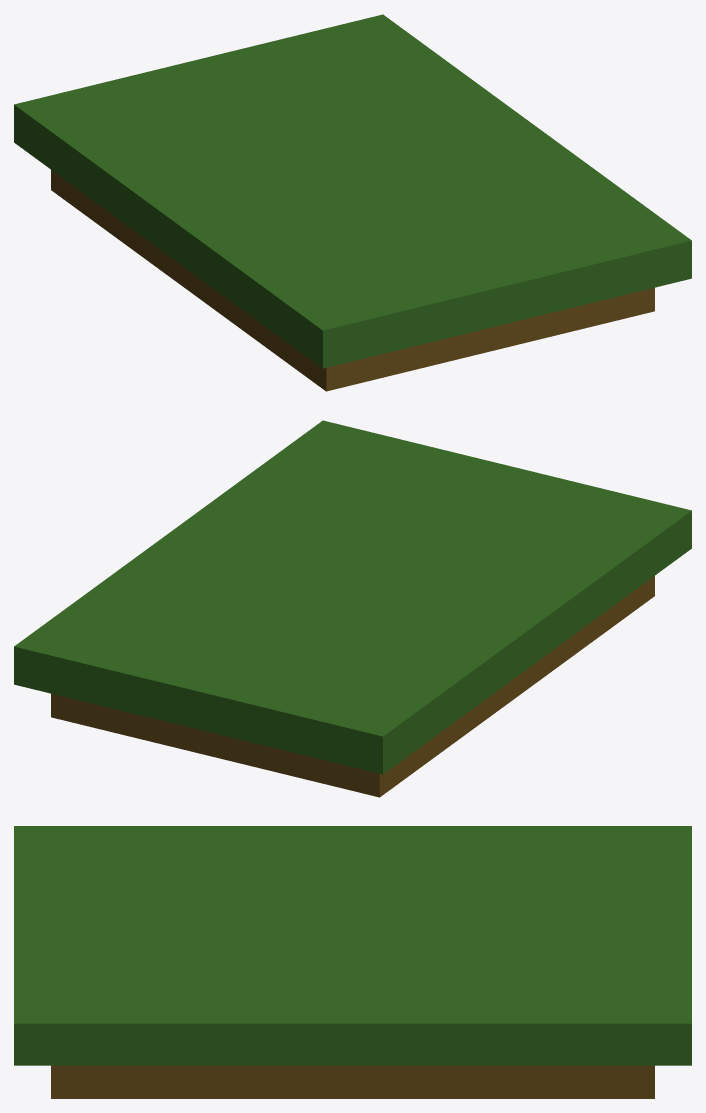
The model's file is Plataforma_aire.fbx.
3 renders of one model, top to bottom at view 1: azimuth 30°, elevation 25°; view 2: azimuth 150°, elevation 25°; view 3: azimuth 270°, elevation 25°, orthographic. The views are drawn at different scales.
Parts seen in each view (by area): view 1: pCube7, pCube6; view 2: pCube7, pCube6; view 3: pCube7, pCube6.
Boxes of the visible parts, bbox=[...] form: pCube7: bbox=[14, 14, 691, 368]; pCube6: bbox=[51, 170, 654, 391]; pCube7: bbox=[14, 420, 691, 774]; pCube6: bbox=[51, 576, 654, 797]; pCube7: bbox=[14, 826, 691, 1065]; pCube6: bbox=[51, 1065, 654, 1098].
Bounding box in the file's own units: 9.53 × 1.93 × 13.82.
